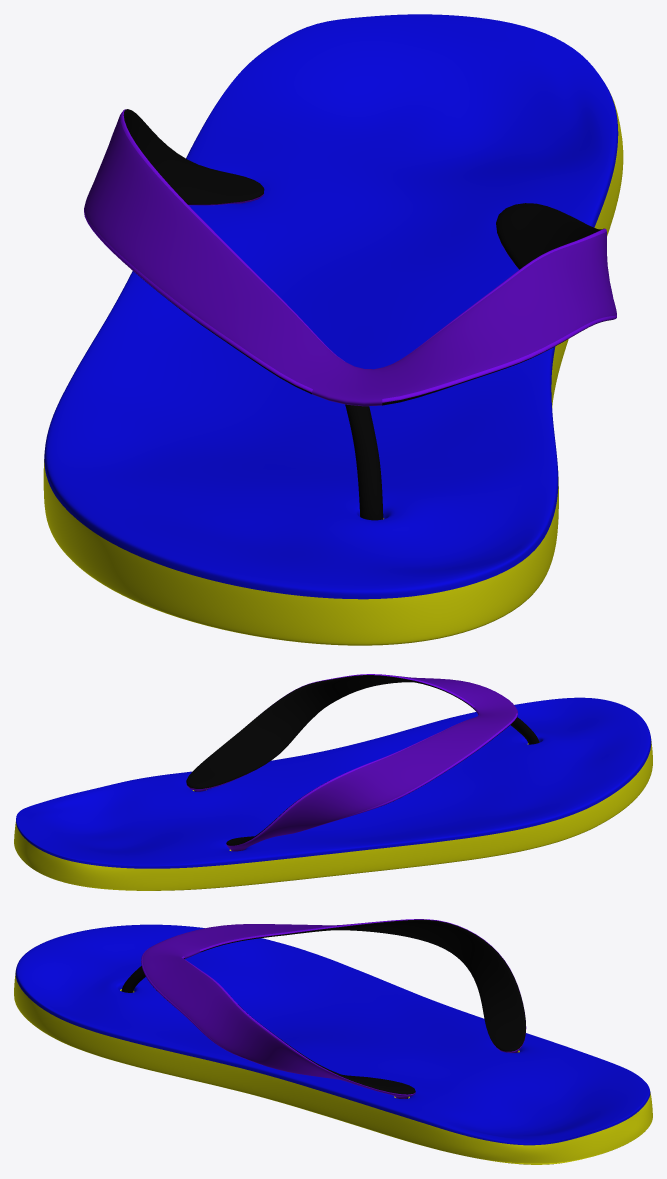
Rendered from Tsinelas.fbx.
3 renders of one model, top to bottom at view 1: azimuth 30°, elevation 25°; view 2: azimuth 150°, elevation 25°; view 3: azimuth 270°, elevation 25°, orthographic. The views are drawn at different scales.
Parts seen in each view (by area): view 1: Strap; view 2: Strap; view 3: Strap.
Boxes of the visible parts, x1,y1,x2,y2 form: Strap: (43,14,623,645); Strap: (14,674,652,890); Strap: (14,919,652,1164).
Bounding box in the file's own units: 30.12 × 7.16 × 37.01.
